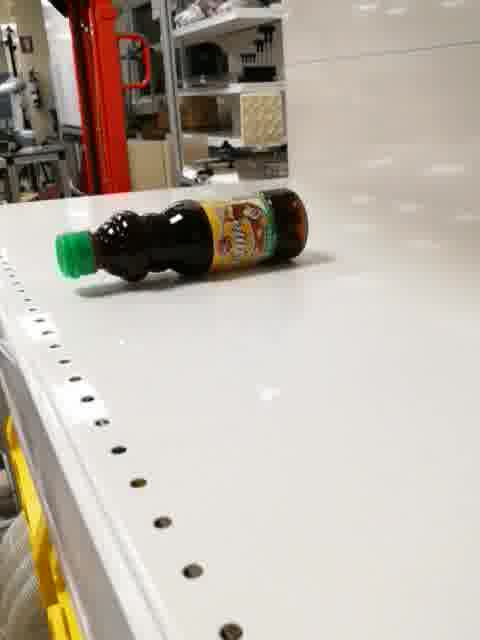cookingoil: (52, 186, 311, 285)
